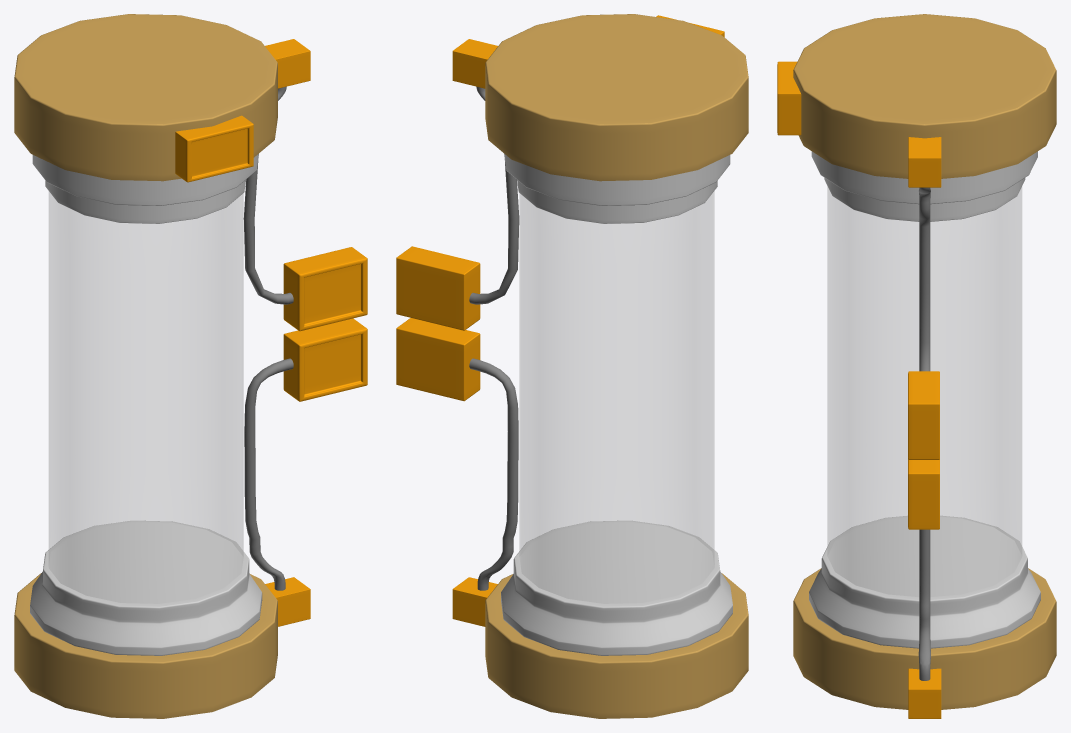
The model's file is plantCylinder.gltf.
3 views of the same model, side by side, from view 1: azimuth 30°, elevation 25°; view 2: azimuth 150°, elevation 25°; view 3: azimuth 270°, elevation 25° (orthographic).
Visible parts, largest first — view 1: glass, top_base_2, bottom_base, bottom_base_2, top_base, increase_temp_screen, decrease_temp_screen, temp_screen1, pipe_bottom, pipe_top, pipe_box_top, pipe_box_bottom; view 2: glass, top_base_2, bottom_base, bottom_base_2, top_base, increase_temp_screen, decrease_temp_screen, pipe_bottom, pipe_top, pipe_box_top, pipe_box_bottom; view 3: glass, top_base_2, bottom_base, bottom_base_2, top_base, increase_temp_screen, decrease_temp_screen, pipe_top, pipe_bottom, pipe_box_top, temp_screen1, pipe_box_bottom.
Boxes of the visible parts, x1,y1,x2,y2 form: glass: (49, 192, 243, 603); top_base_2: (14, 14, 277, 181); bottom_base: (30, 520, 262, 655); bottom_base_2: (14, 573, 277, 718); top_base: (32, 154, 258, 223); increase_temp_screen: (283, 247, 367, 331); decrease_temp_screen: (283, 318, 367, 401); temp_screen1: (175, 115, 253, 182); pipe_bottom: (244, 358, 293, 590); pipe_top: (243, 86, 293, 304); pipe_box_top: (265, 39, 310, 88); pipe_box_bottom: (265, 577, 310, 626); glass: (519, 191, 714, 603); top_base_2: (485, 14, 748, 181); bottom_base: (501, 520, 732, 655); bottom_base_2: (485, 573, 748, 718); top_base: (504, 153, 730, 223); increase_temp_screen: (396, 246, 480, 330); decrease_temp_screen: (396, 318, 480, 401); pipe_bottom: (469, 358, 518, 590); pipe_top: (469, 86, 519, 304); pipe_box_top: (452, 39, 497, 88); pipe_box_bottom: (452, 577, 497, 626); glass: (827, 186, 1021, 596); top_base_2: (793, 14, 1056, 178); bottom_base: (809, 515, 1040, 648); bottom_base_2: (793, 568, 1056, 709); top_base: (811, 151, 1037, 221); increase_temp_screen: (908, 371, 939, 459); decrease_temp_screen: (908, 458, 939, 529); pipe_top: (919, 187, 930, 371); pipe_bottom: (918, 529, 930, 680); pipe_box_top: (908, 137, 941, 187); temp_screen1: (777, 61, 801, 135); pipe_box_bottom: (908, 668, 941, 718).
Size of the model in its own units: 3.57 by 6.16 by 2.65.
